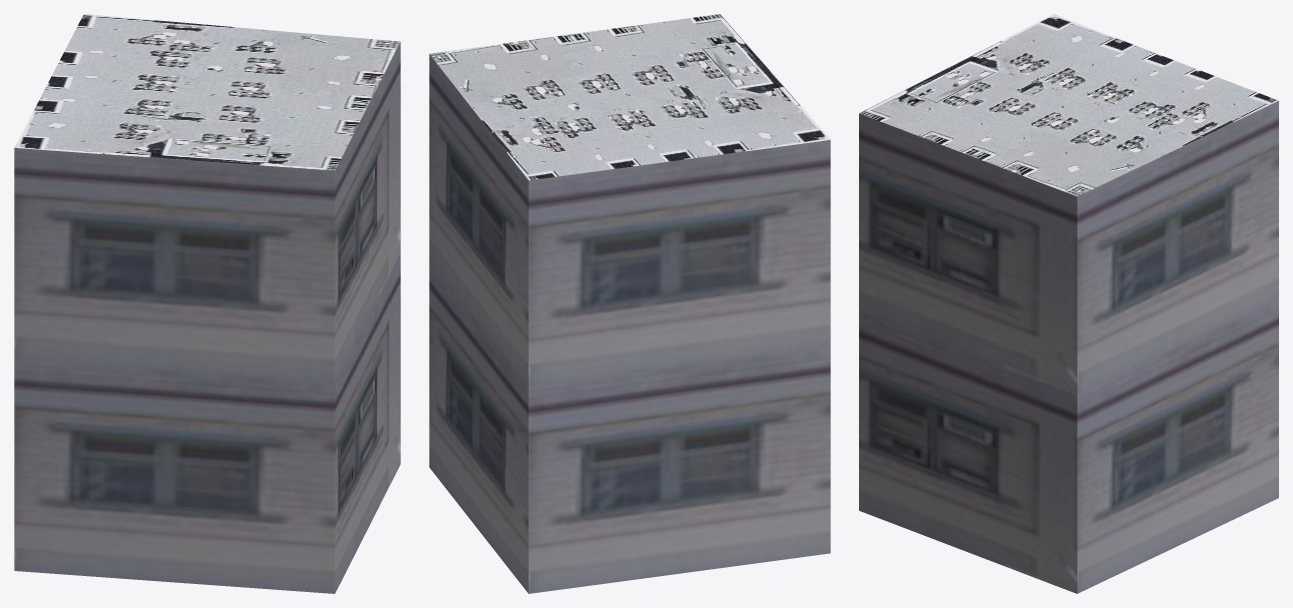
Rendered from ResTex__2351.fbx.
The picture shows the model from 3 angles, left to right: view 1: azimuth 30°, elevation 25°; view 2: azimuth 150°, elevation 25°; view 3: azimuth 270°, elevation 25°; orthographic projection. The views are drawn at different scales.
Visible parts, largest first — view 1: CityEngineMaterial_1_m, CityEngineMaterial_4_m; view 2: CityEngineMaterial_1_m, CityEngineMaterial_4_m; view 3: CityEngineMaterial_1_m, CityEngineMaterial_4_m.
Part boxes in pixels (x1,y1,x2,y2): CityEngineMaterial_1_m: (14, 42, 400, 593); CityEngineMaterial_4_m: (14, 14, 399, 170); CityEngineMaterial_1_m: (429, 54, 830, 593); CityEngineMaterial_4_m: (429, 14, 830, 180); CityEngineMaterial_1_m: (859, 101, 1278, 593); CityEngineMaterial_4_m: (859, 14, 1278, 196).
Size of the model in its own units: 5.91 by 6 by 5.75.
2 materials, 2 textured.
